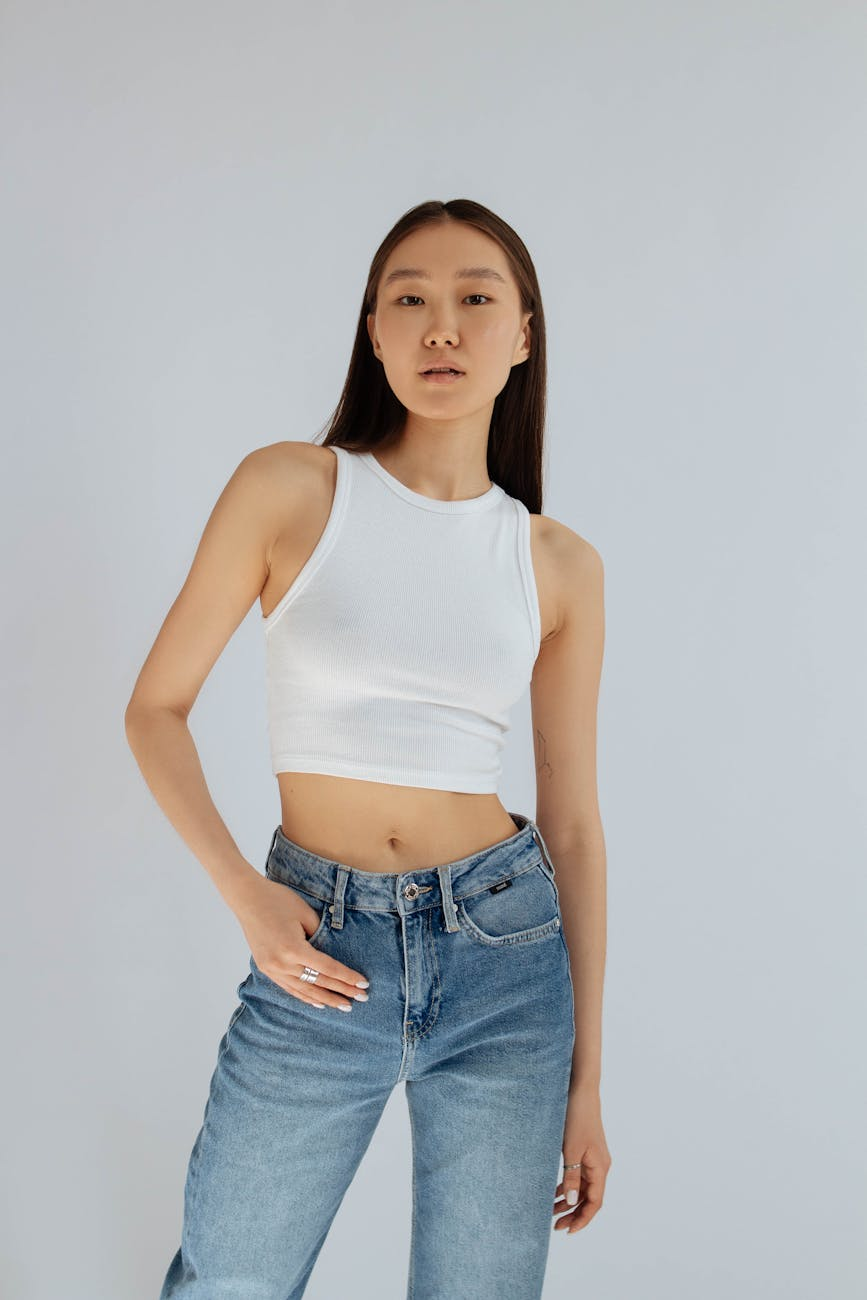crop_top: (232, 424, 577, 807)
